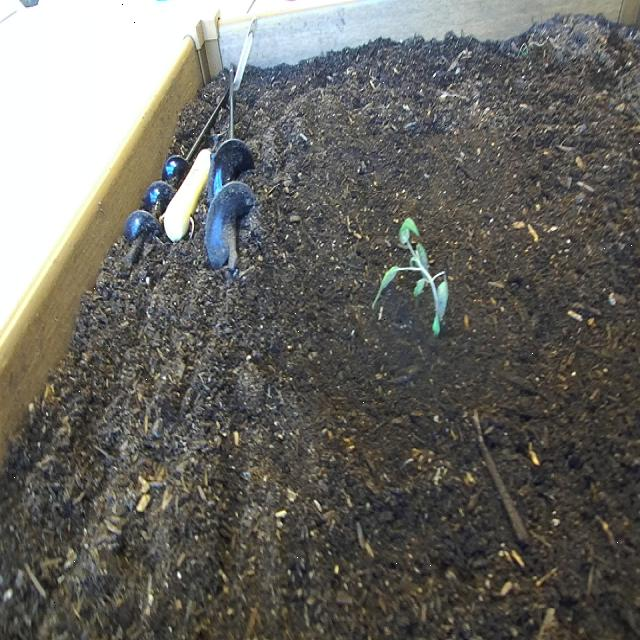Unhealthy: (372, 216, 451, 346)
